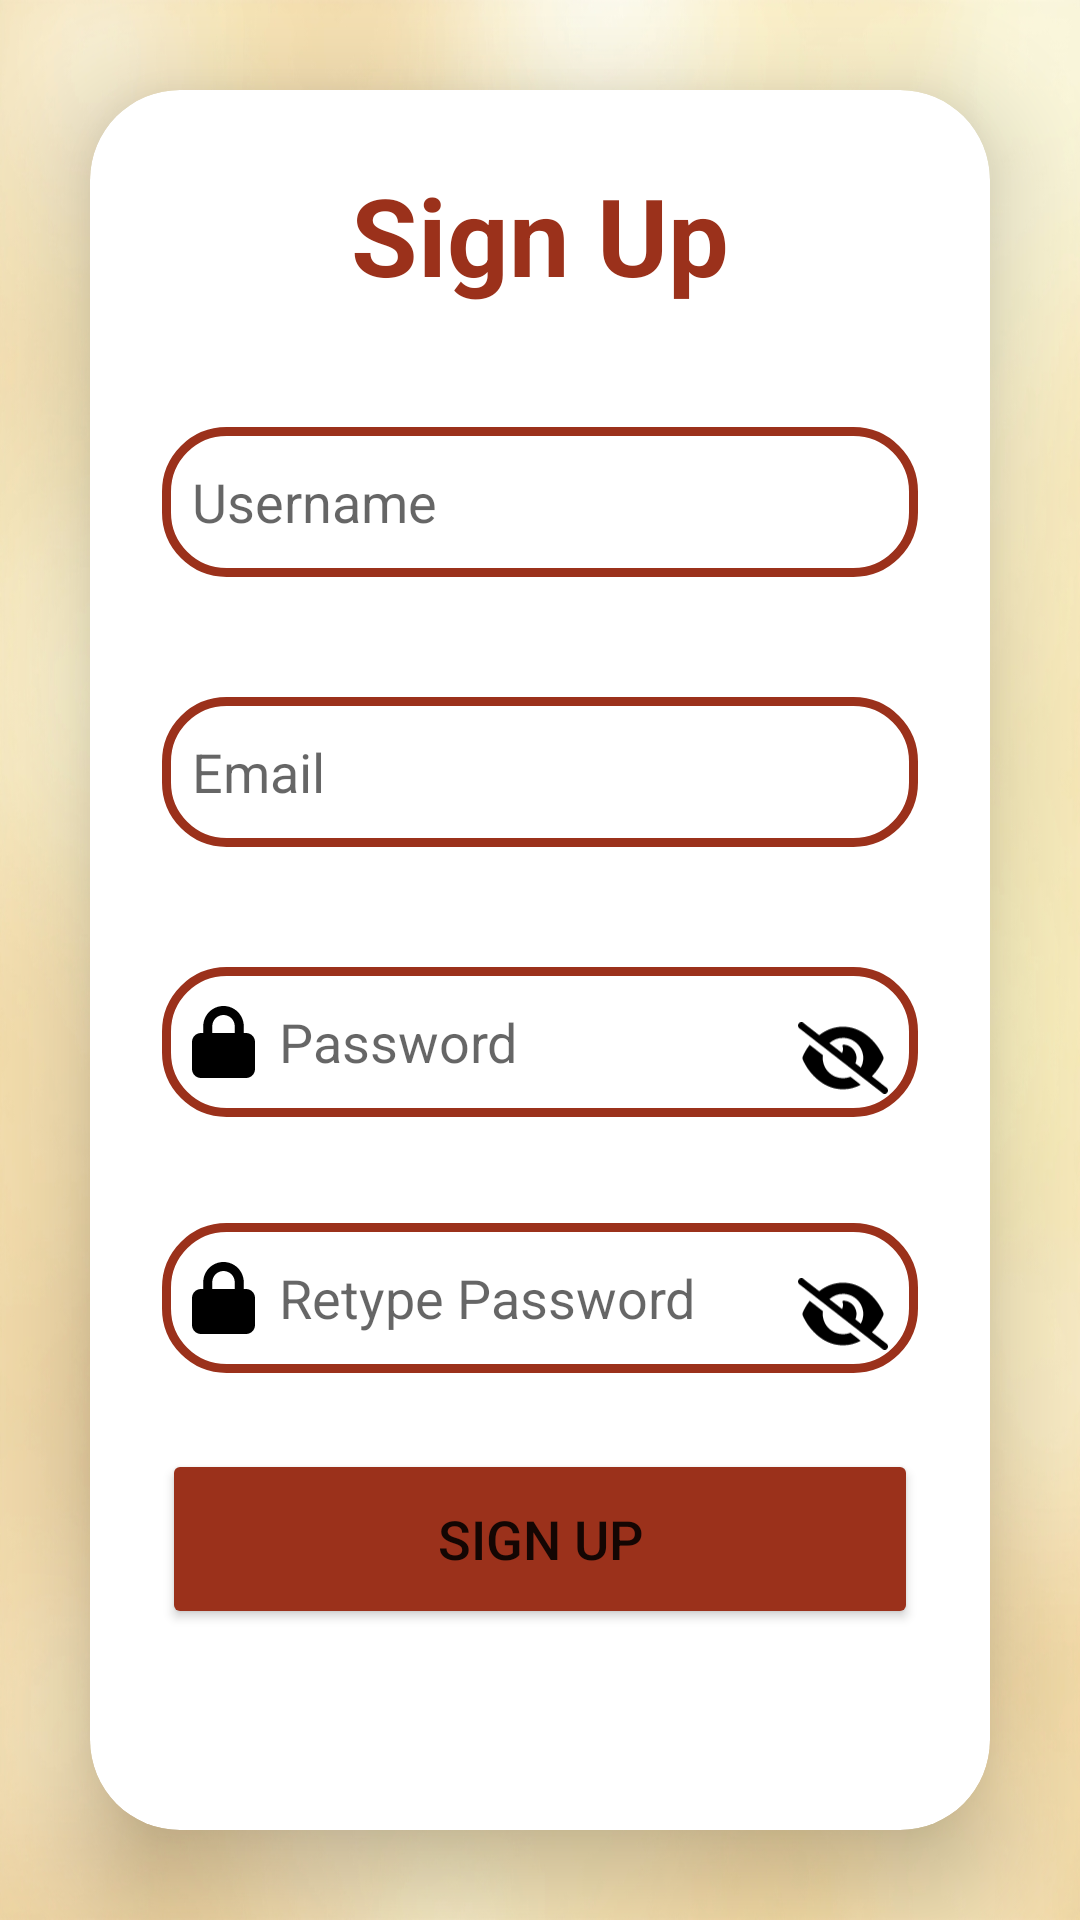

Screen size 1080w x 1920h. Icon name, then its center in pixels as [x,y]:
eye off: [843,1058], [843,1314]
